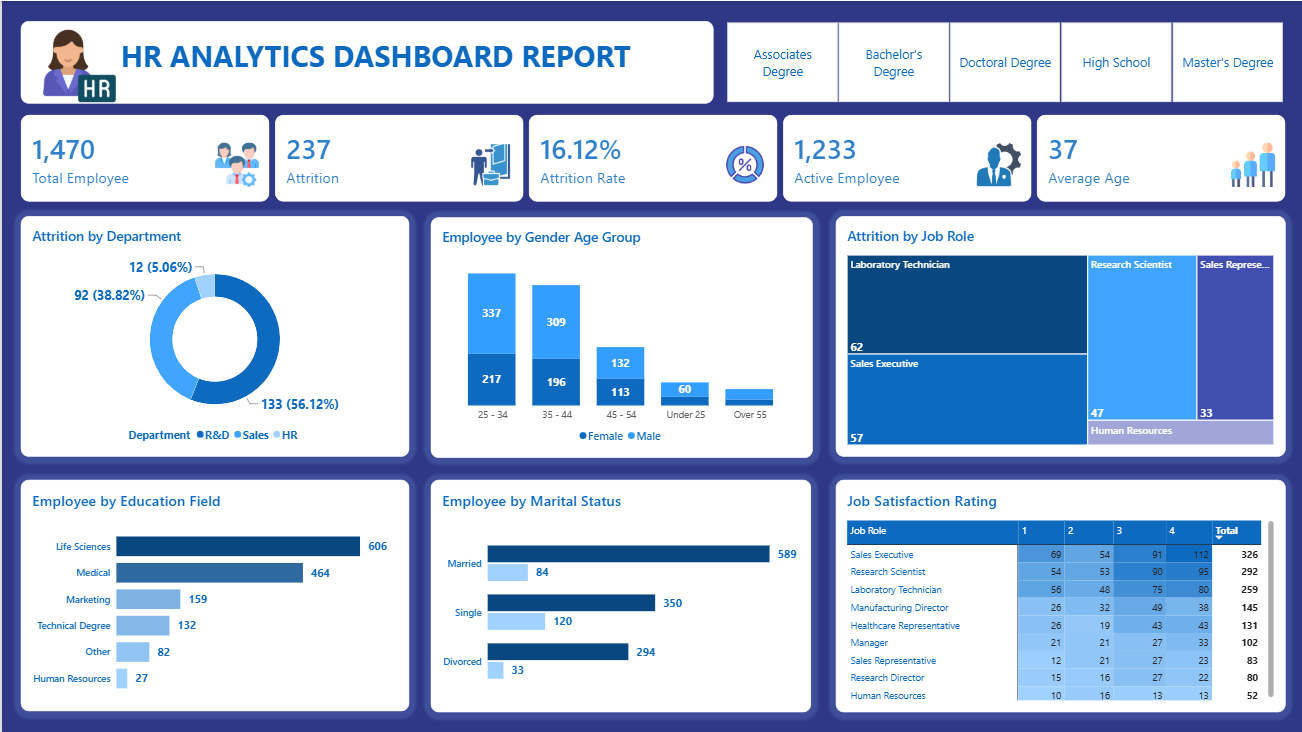

Layout of this report page (visuals, bound fields, positions):
{"tool":"powerbi","page":{"name":"Page 1","canvas":[1920,1080],"ordinal":0},"visuals":[{"type":"cardVisual","fields":{"Data":["KPIs.Total Employee","KPIs.Attrition","KPIs.Attrition Rate","KPIs.Active Employee","KPIs.Average Age"]},"box":[28,168,1862,128],"z":0},{"type":"donutChart","title":"Attrition by Department","fields":{"Category":["HR Analyrics.Department"],"Y":["KPIs.Attrition"]},"box":[28,316,572,354],"z":1000},{"type":"columnChart","title":"Employee by Gender Age Group","fields":{"Category":["HR Analyrics.CF_age band"],"Series":["HR Analyrics.Gender"],"Y":["KPIs.Total Employee"]},"box":[632,318,562,354],"z":2000},{"type":"treemap","fields":{"Group":["HR Analyrics.Job Role"],"Values":["KPIs.Attrition"]},"box":[1228,316,662,354],"z":2001},{"type":"barChart","title":"Employee by Education Field","fields":{"Category":["HR Analyrics.Education Field"],"Y":["KPIs.Total Employee"]},"box":[27.6,704.9,572.4,340.5],"z":2002},{"type":"clusteredBarChart","title":"Employee by Marital Status","fields":{"Category":["HR Analyrics.Marital Status"],"Series":["HR Analyrics.Attrition"],"Y":["KPIs.Total Employee"]},"box":[631.3,704.9,560,342],"z":2003},{"type":"pivotTable","title":"Job Satisfaction Rating","fields":{"Columns":["HR Analyrics.Job Satisfaction"],"Rows":["HR Analyrics.Job Role"],"Values":["KPIs.Total Employee"]},"box":[1227.6,704.9,662.6,342.3],"z":2004},{"type":"textbox","box":[27.6,29.4,1019.6,121.5],"z":2005},{"type":"image","box":[40.5,40.5,147.2,110.4],"z":2006},{"type":"slicer","fields":{"Values":["HR Analyrics.Education"]},"box":[1047.2,29.4,857.7,121.5],"z":2007}]}

Visuals, with their boxes in screenshot pixels (x1, y1, x2, y2), scaled from the page's 1920x1080 canvas onto the 1302x732 screenshot:
cardVisual - KPIs.Total Employee x KPIs.Attrition: left=19, top=114, right=1282, bottom=201
"Attrition by Department" donutChart: left=19, top=214, right=407, bottom=454
"Employee by Gender Age Group" columnChart: left=429, top=216, right=810, bottom=455
treemap - HR Analyrics.Job Role x KPIs.Attrition: left=833, top=214, right=1282, bottom=454
"Employee by Education Field" barChart: left=19, top=478, right=407, bottom=709
"Employee by Marital Status" clusteredBarChart: left=428, top=478, right=808, bottom=710
"Job Satisfaction Rating" pivotTable: left=832, top=478, right=1282, bottom=710
textbox: left=19, top=20, right=710, bottom=102
image: left=27, top=27, right=127, bottom=102
slicer - HR Analyrics.Education: left=710, top=20, right=1292, bottom=102
